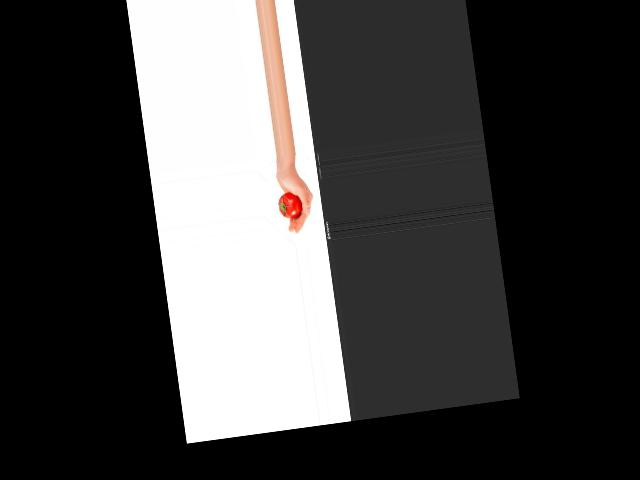tomato: (277, 190, 303, 218)
